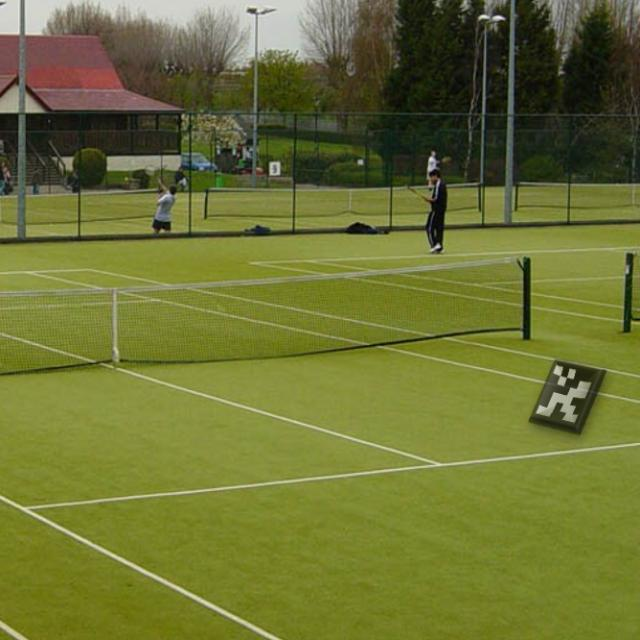marker: (520, 349, 615, 444)
